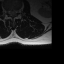CCS_normal: (11, 7, 14, 17)
LFS_normal: (16, 7, 18, 15)
LLS_normal: (14, 6, 16, 16)
RFS_normal: (6, 7, 9, 15)
RLS_normal: (9, 7, 11, 16)
